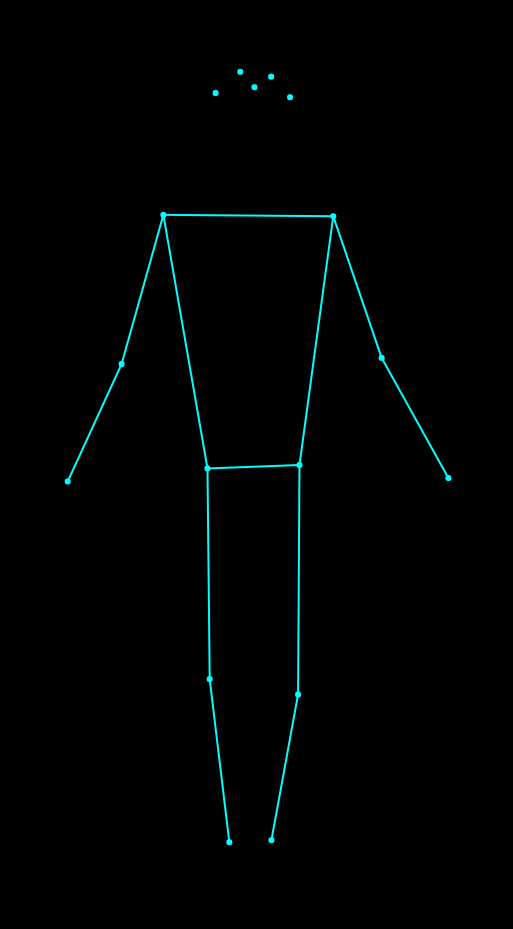mountain: (60, 54, 459, 854)
